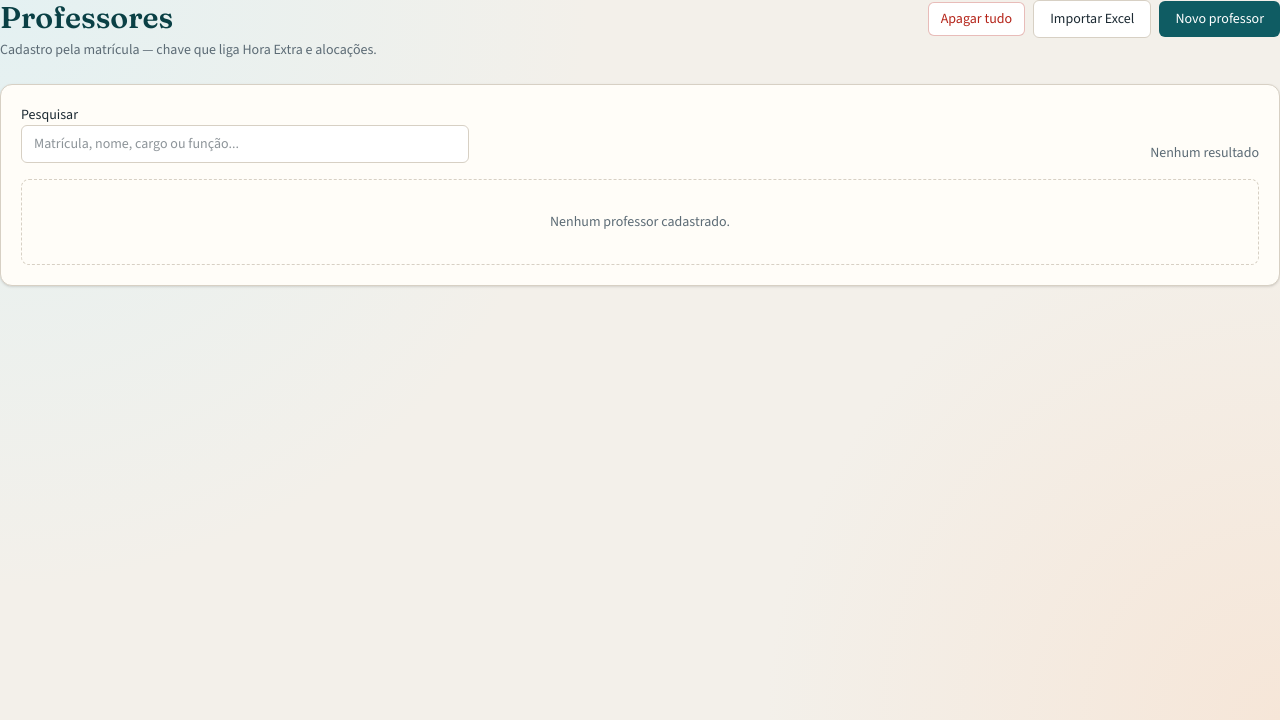
Tela: Configuração / Professores › lista vazia e abre cadastro
Expected: the heading "Professores" is shown, top-left (0, 0), bottom-right (173, 36)
Expected: the text "Nenhum professor cadastrado." is shown, top-left (21, 179), bottom-right (1259, 265)
Click the button "Novo professor" at (1220, 19), box top-left (1159, 1), bottom-right (1279, 37)
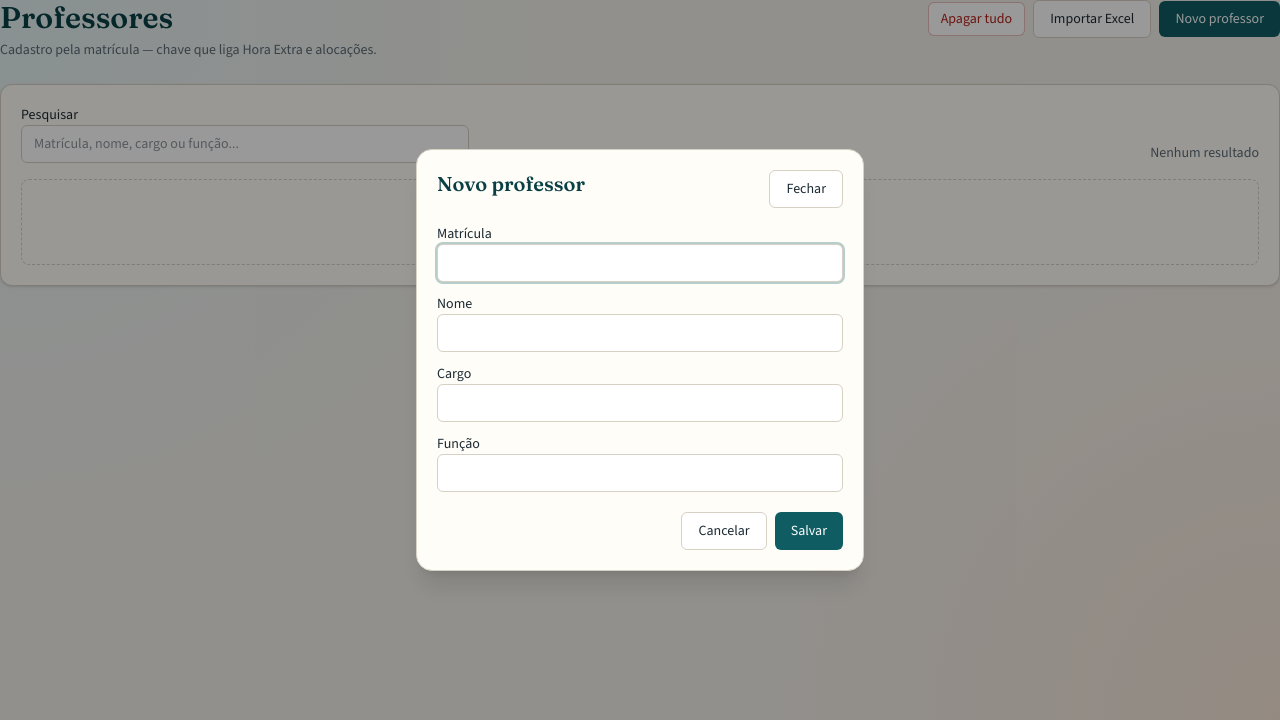
Expected: the dialog "Novo professor" is shown, top-left (416, 149), bottom-right (864, 571)
